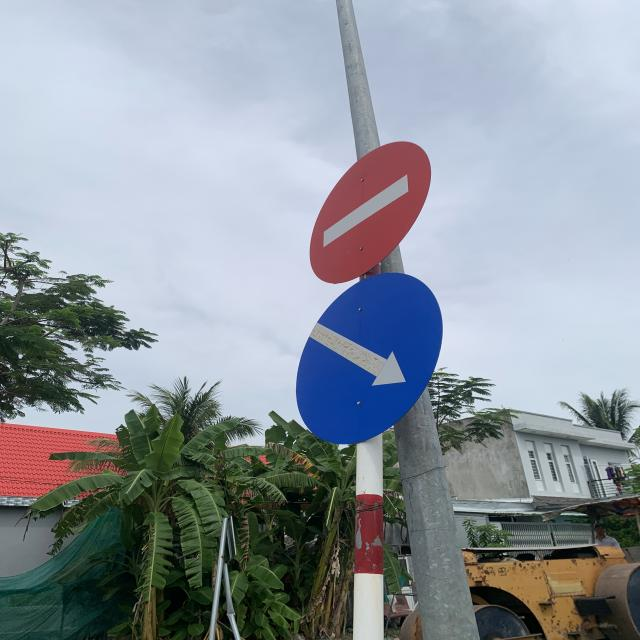Cam_Di_Nguoc_Chieu: (311, 139, 431, 284)
Chi_Huong_Di_Phai: (296, 274, 444, 446)
